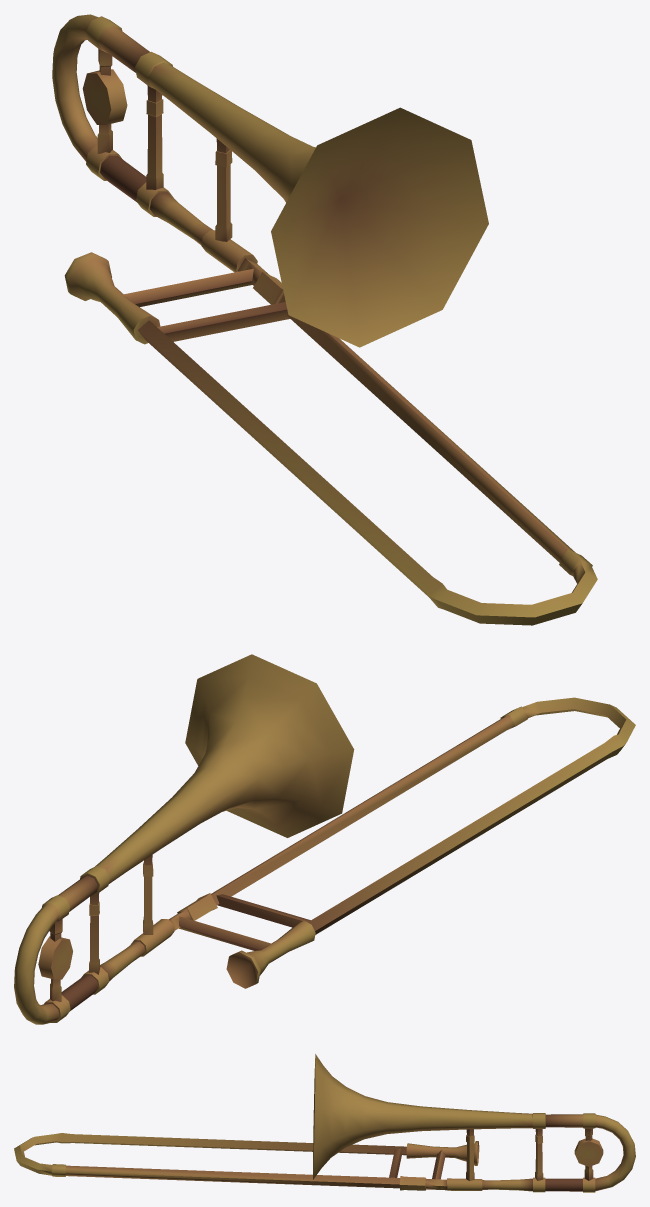
File: human-music-trombone_v1.fbx
3 renders of one model, top to bottom at view 1: azimuth 30°, elevation 25°; view 2: azimuth 150°, elevation 25°; view 3: azimuth 270°, elevation 25°, orthographic. The views are drawn at different scales.
Visible parts, largest first — view 1: Trombone.001; view 2: Trombone.001; view 3: Trombone.001.
Boxes of the visible parts, x1,y1,x2,y2 form: Trombone.001: (52,14,597,625); Trombone.001: (14,654,635,1024); Trombone.001: (14,1054,635,1192).
Size of the model in its own units: 0.3473 by 0.2905 by 1.2.
